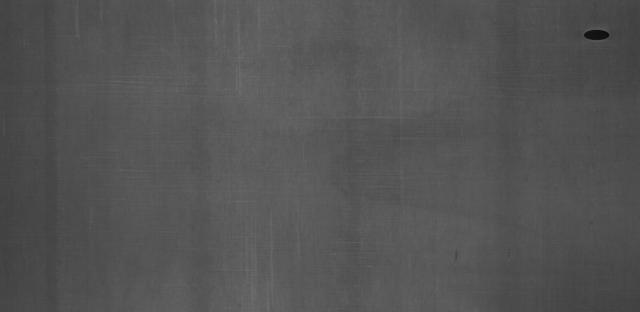punching_hole: (579, 26, 613, 43)
